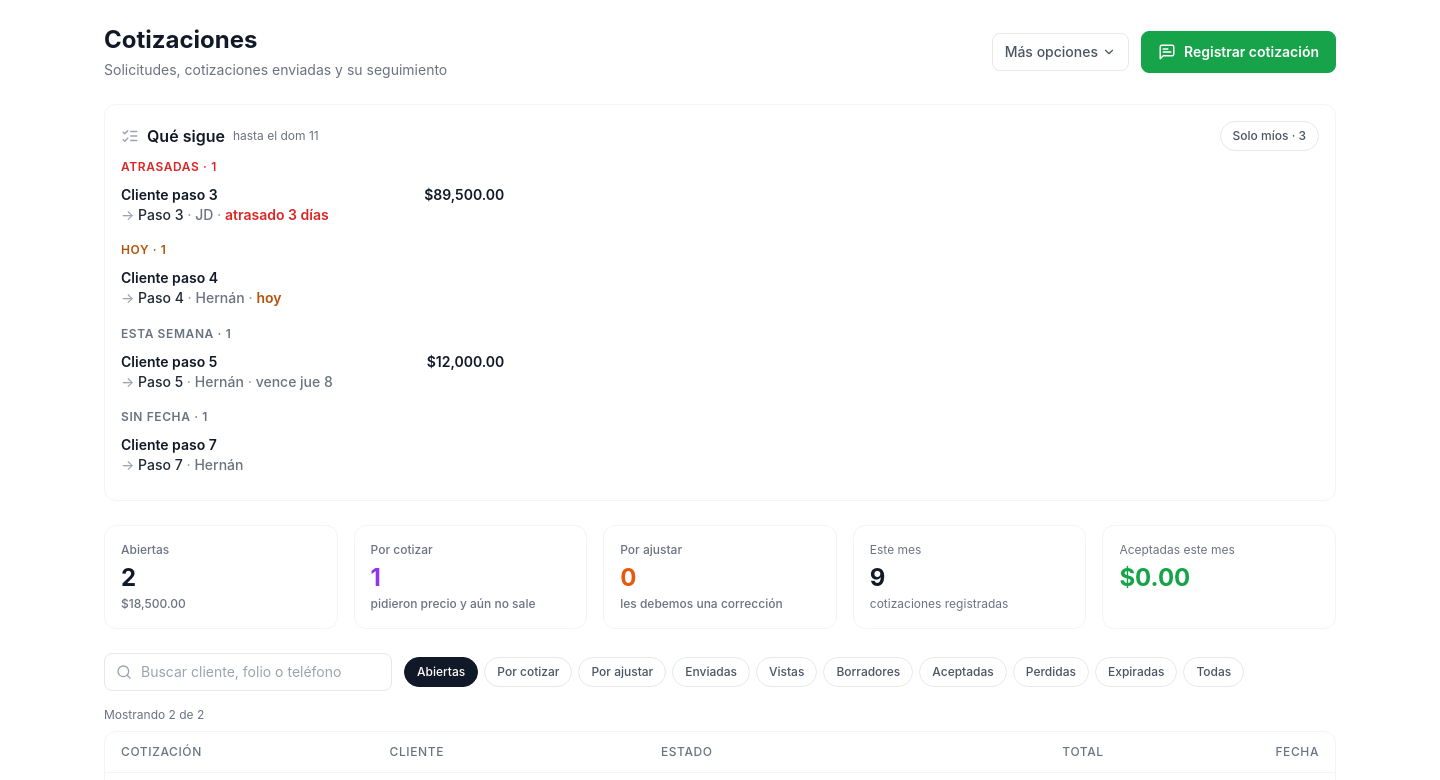
it: «Qué sigue» groups this week's next steps, undated ones too, and filters to mine
Check: the heading "Atrasadas · 1" is shown, box [121,159,217,174]
Check: the text "hasta el dom 11" is shown, box [233,128,319,144]
Click the button "Solo míos · 3" at (1269, 136), box [1220,121,1319,151]
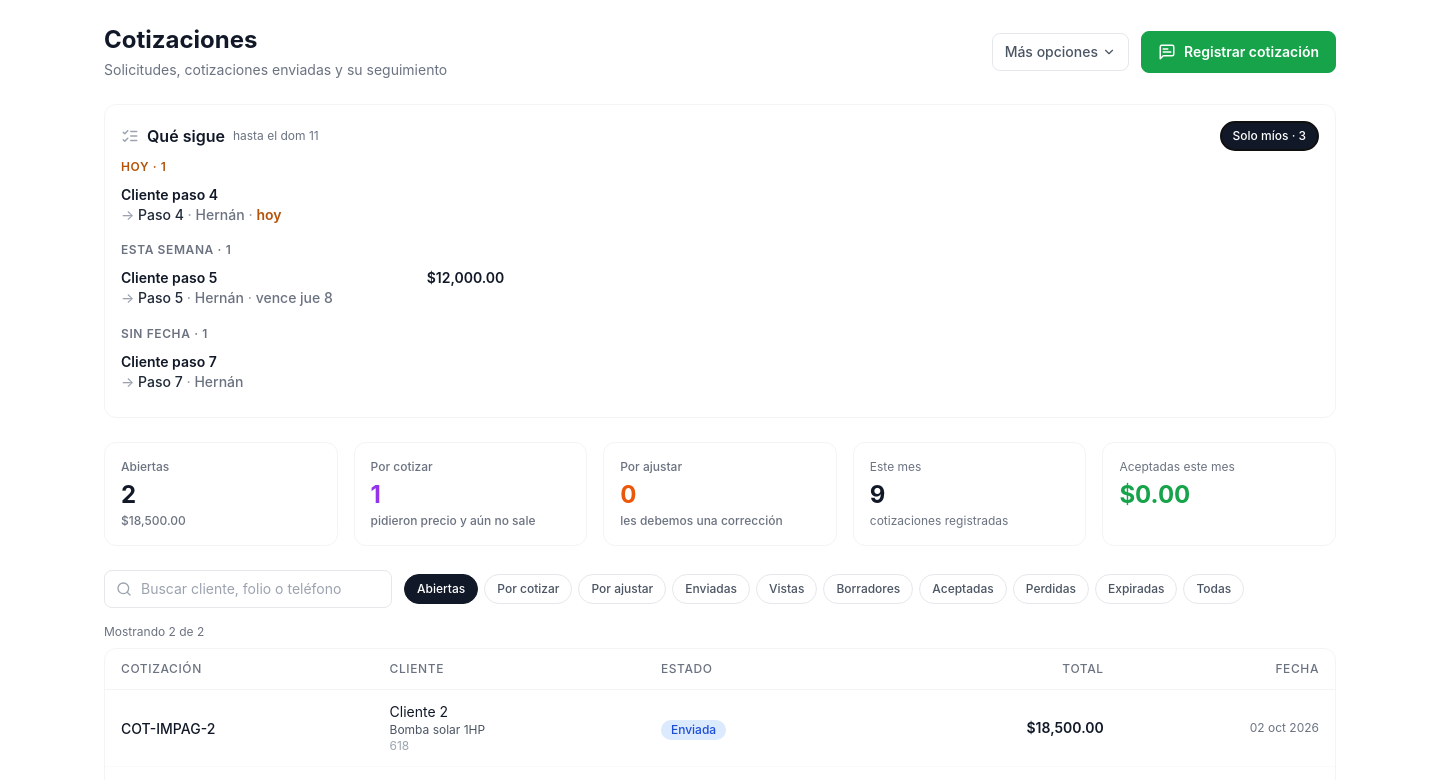
Check: the text "Cliente paso 4" is shown, box [121,186,218,203]
Check: the link "Cliente paso 3" is gone
